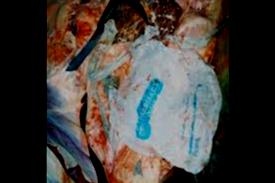Plastic: (109, 47, 224, 172)
